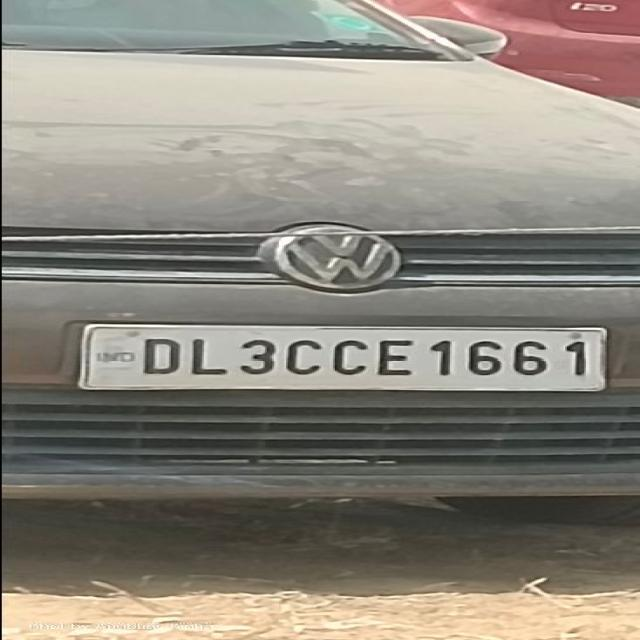license_plate: (75, 322, 609, 392)
